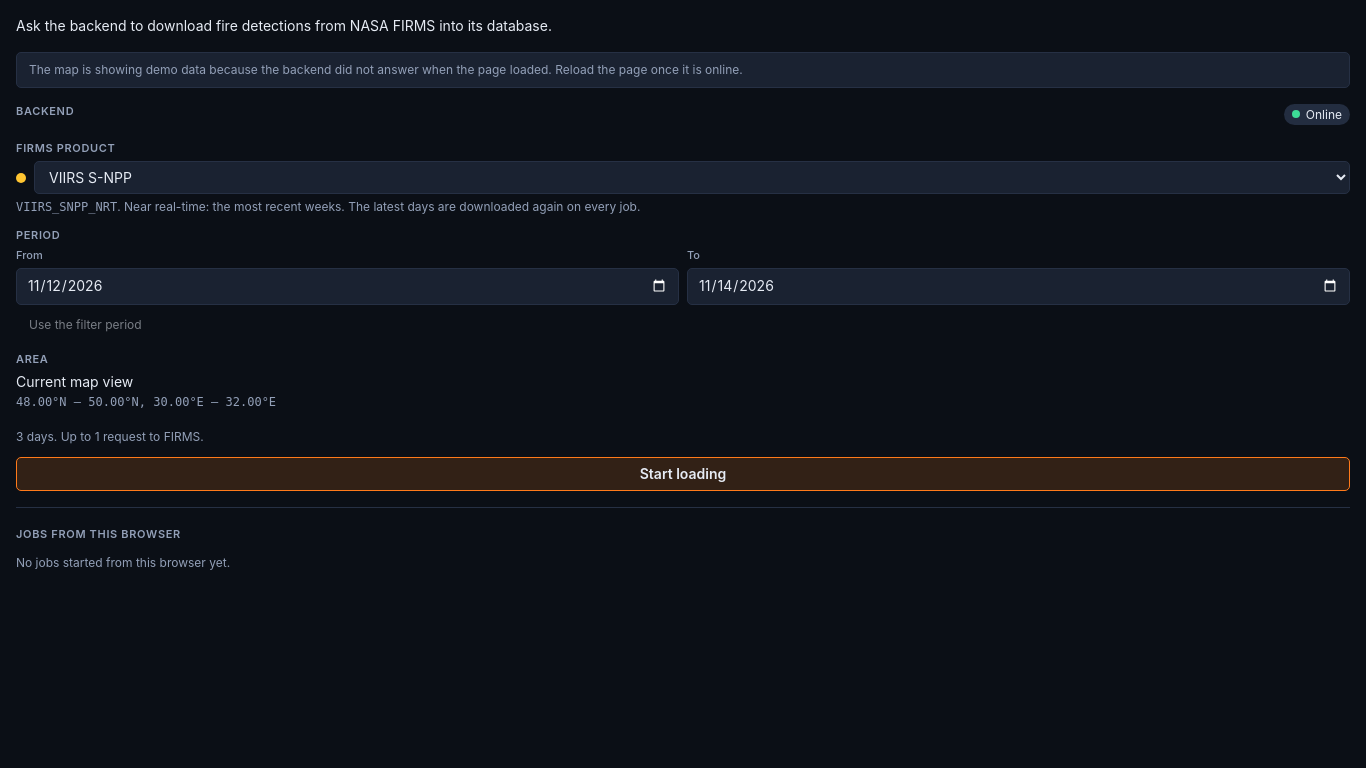
Test: IngestionPanel › explains a queue outage and keeps the list unchanged
Expected: the text "Online" is shown, [1284, 104, 1350, 125]
Click the button "Start loading".
click(683, 474)  # box [16, 457, 1350, 491]
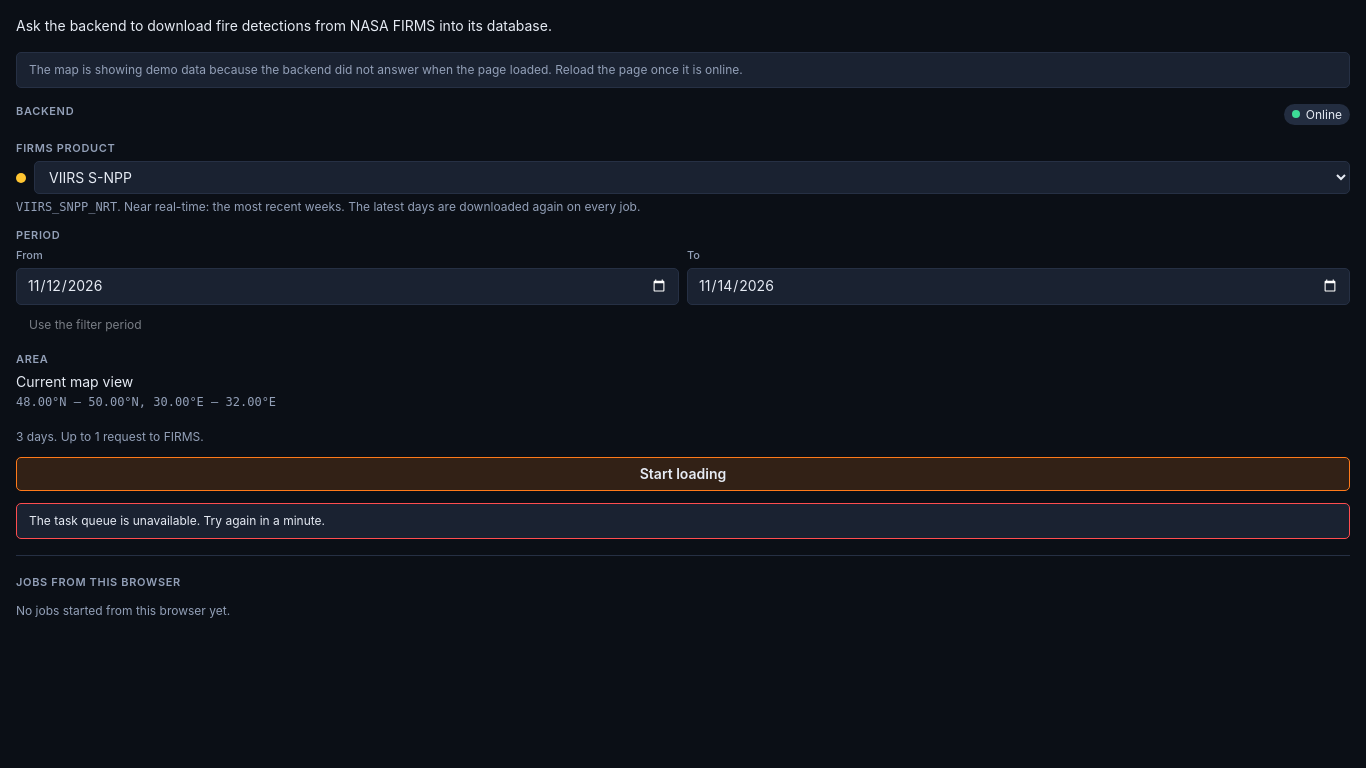
Result: the message "The task queue is unavailable. Try again in a minute." is shown at [16, 503, 1350, 539]
